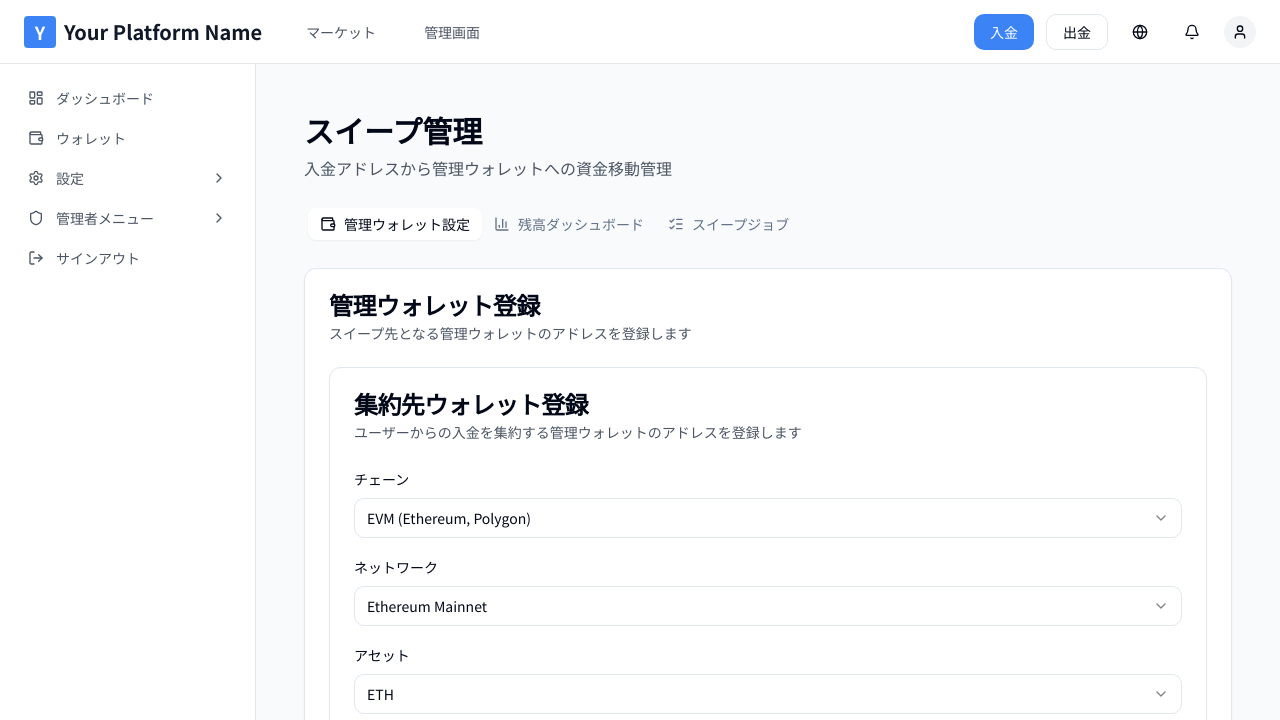
it: SweepManager › コンポーネント統合 › 残高ダッシュボードタブでBalanceAggregatorが表示される
Click the tab "残高ダッシュボード".
click(569, 224)  # box [482,208,656,240]
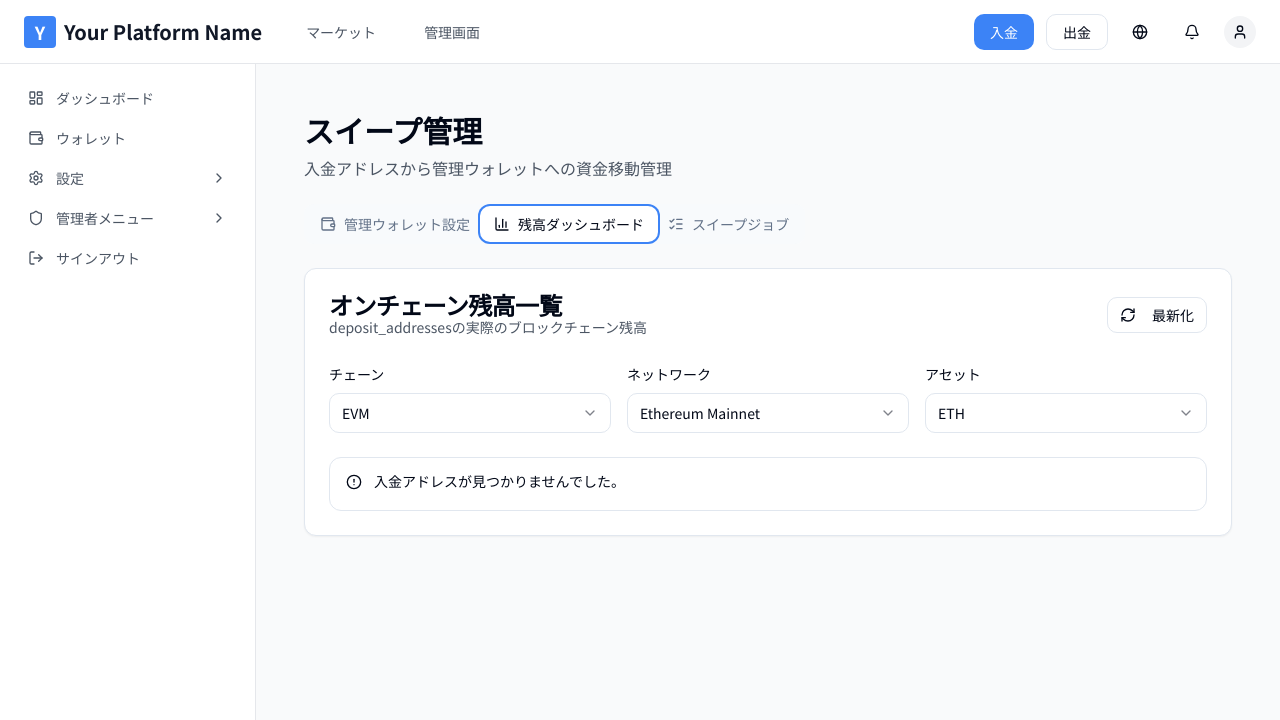
Expected: the heading "オンチェーン残高一覧" is shown, [329,287,562,322]
